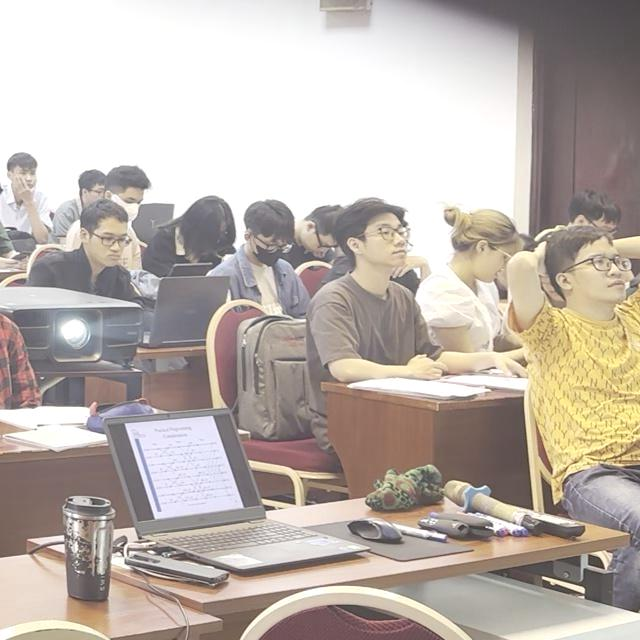Looking away: (475, 234, 508, 282), (96, 221, 127, 264), (259, 230, 286, 269), (306, 229, 336, 257), (121, 186, 141, 221)
Looking forward: (576, 246, 630, 301), (368, 219, 409, 262), (17, 164, 36, 192)
